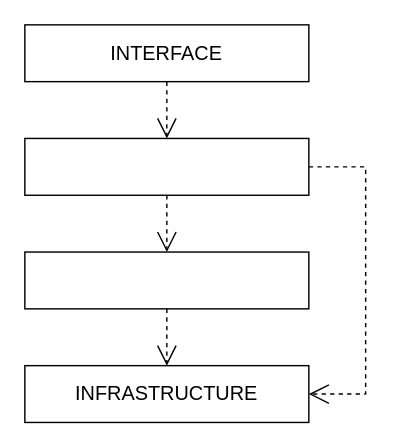
The diagram is 410 pixels wide and 447 high, and some of its shapes have lost their labels. The shapes that lost their labels are listed below. From the top down, each one's box as (x1, y1, x2, y2) in pixels, then its label:
(23, 137, 309, 195): APPLICATION
(23, 251, 309, 309): DOMAIN
